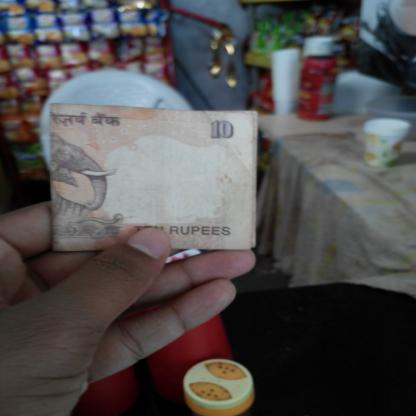Old10Back: (47, 104, 261, 251)
